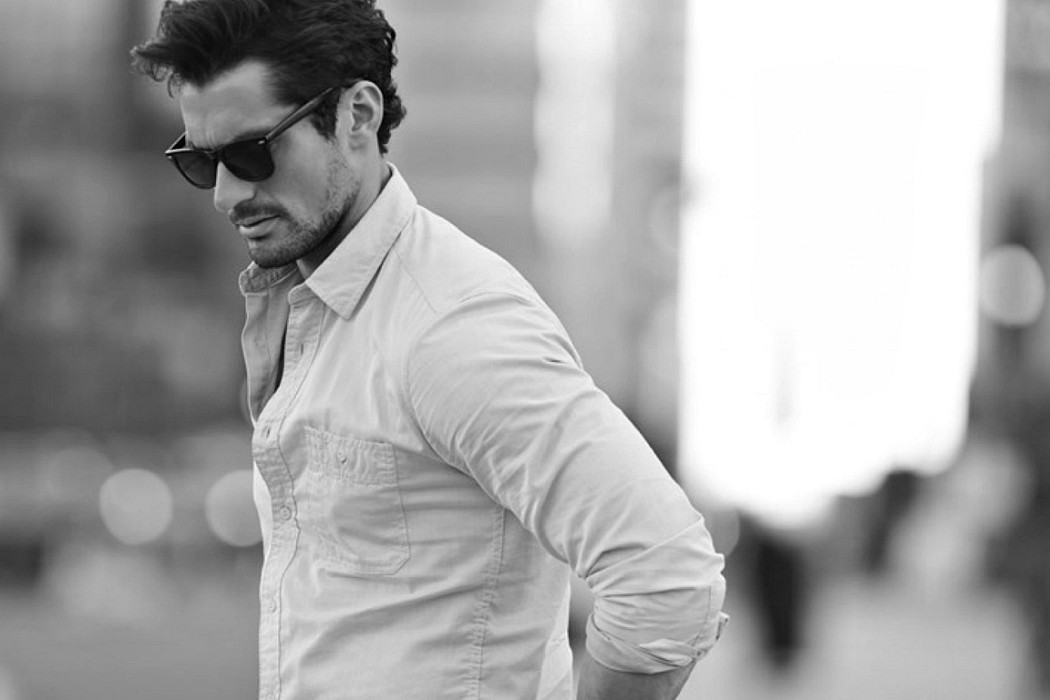NOTSAFE: (177, 1, 571, 700)
